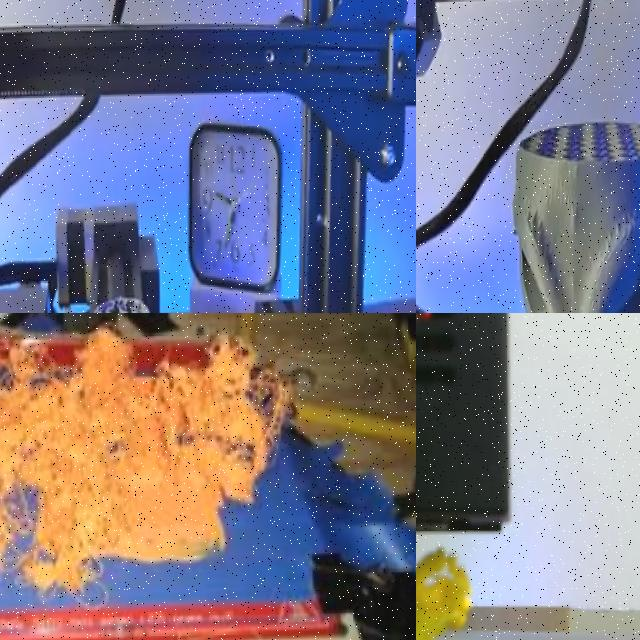spaghetti: (0, 342, 308, 583), (416, 549, 470, 640)
